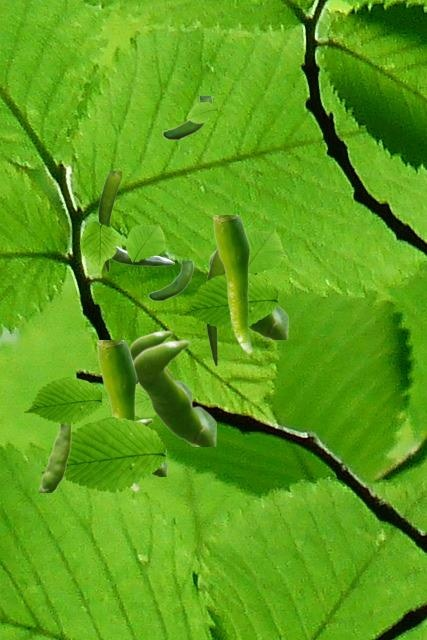green_chili: (133, 339, 215, 445), (208, 247, 287, 338), (97, 340, 138, 491), (213, 215, 251, 353), (129, 330, 191, 398), (98, 171, 120, 271), (39, 424, 71, 491), (162, 96, 211, 139), (205, 249, 223, 365), (148, 261, 192, 300), (136, 418, 166, 475), (110, 245, 173, 265)
